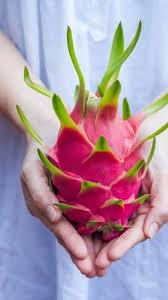dragon fruit: (15, 18, 167, 241)
